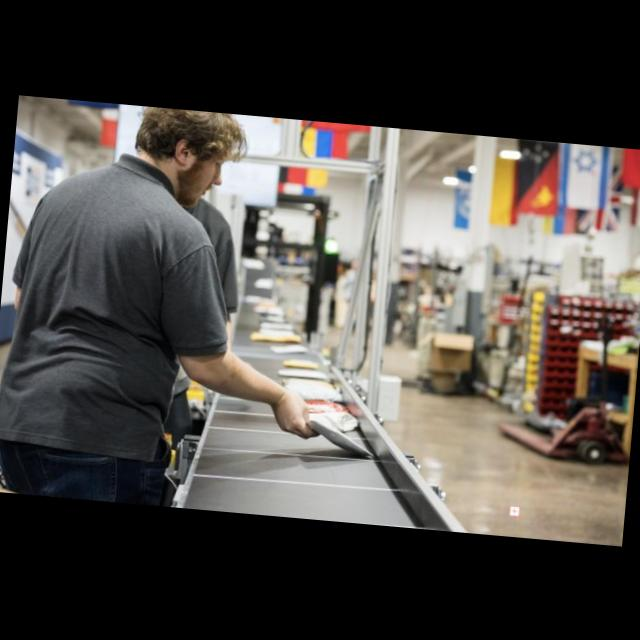mailer: (307, 418, 371, 455), (306, 399, 357, 430), (284, 377, 342, 398), (250, 329, 300, 342), (277, 368, 329, 378), (270, 344, 307, 352), (260, 320, 292, 329), (284, 359, 317, 367)
